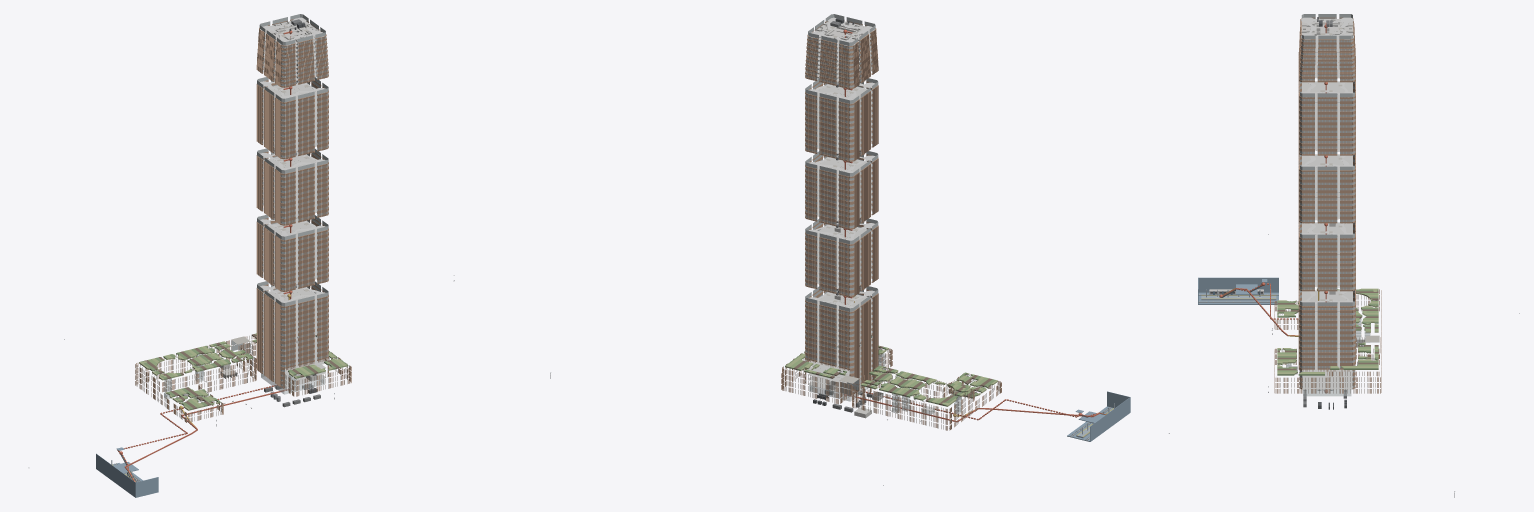
File: gebaeude.glb
3 views of the same model, side by side, from view 1: azimuth 30°, elevation 25°; view 2: azimuth 150°, elevation 25°; view 3: azimuth 270°, elevation 25° (orthographic). The views are drawn at different scales.
Parts seen in each view (by area): view 1: gebaeude; view 2: gebaeude; view 3: gebaeude.
Boxes of the visible parts, bbox=[...] form: gebaeude: bbox=[28, 14, 454, 497]; gebaeude: bbox=[550, 14, 1169, 485]; gebaeude: bbox=[1198, 14, 1519, 497].
Size of the model in its own units: 456 by 316 by 240.
